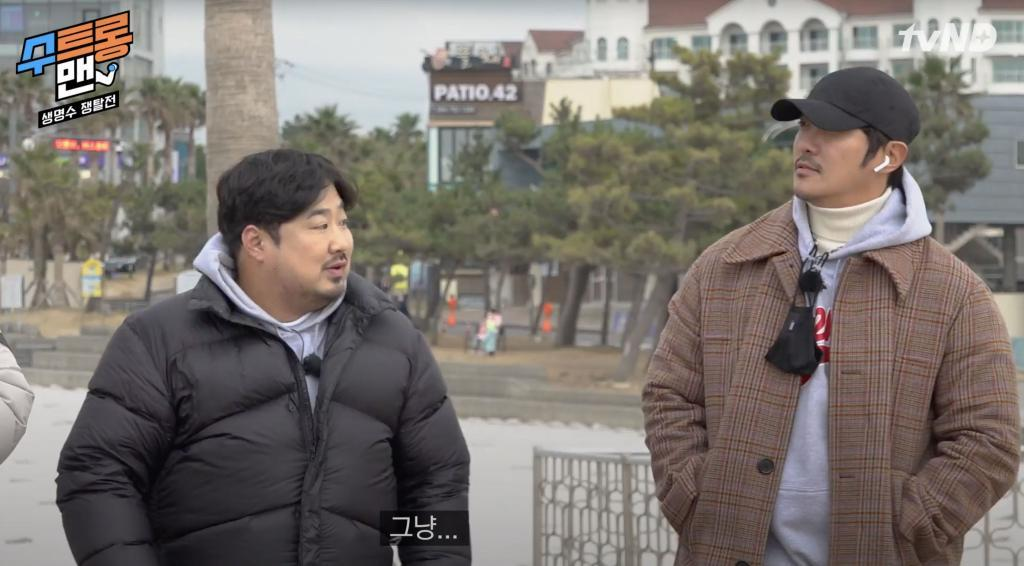earphone: (868, 152, 893, 175)
